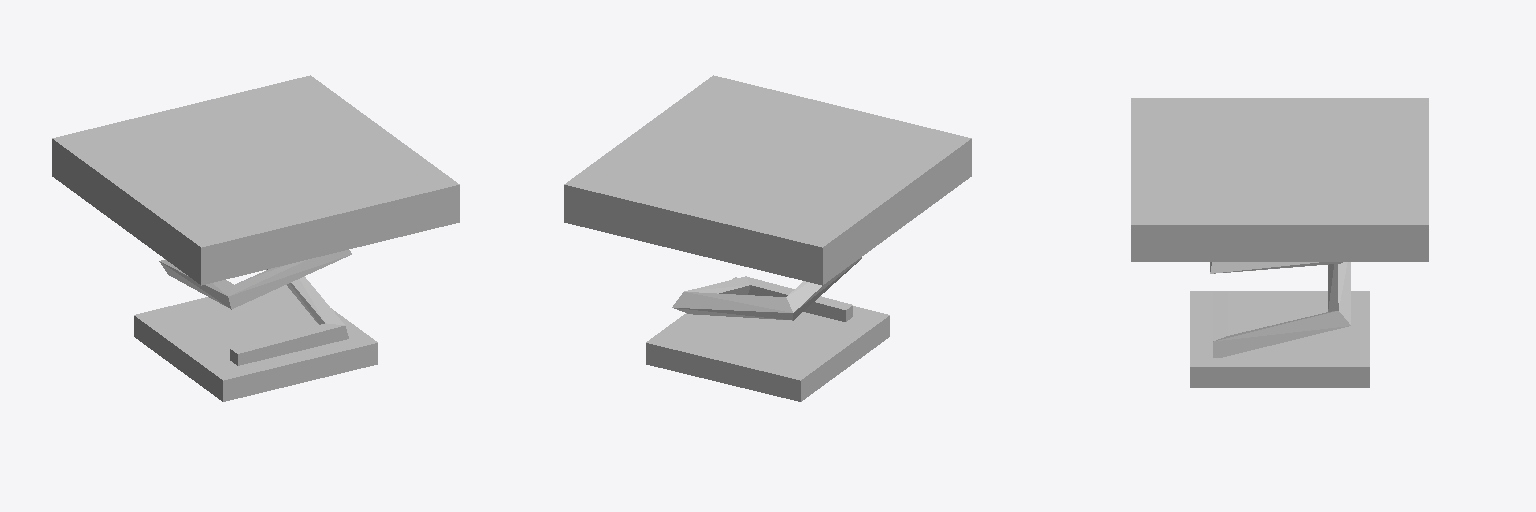
File: bump.obj
The picture shows the model from 3 angles: view 1: azimuth 30°, elevation 25°; view 2: azimuth 150°, elevation 25°; view 3: azimuth 270°, elevation 25°; orthographic projection.
Parts seen in each view (by area): view 1: default; view 2: default; view 3: default.
Part boxes in pixels (x1,y1,x2,y2): default: (52,75,459,401); default: (564,75,971,401); default: (1131,98,1428,387).
Size of the model in its own units: 1 by 0.6983 by 1.